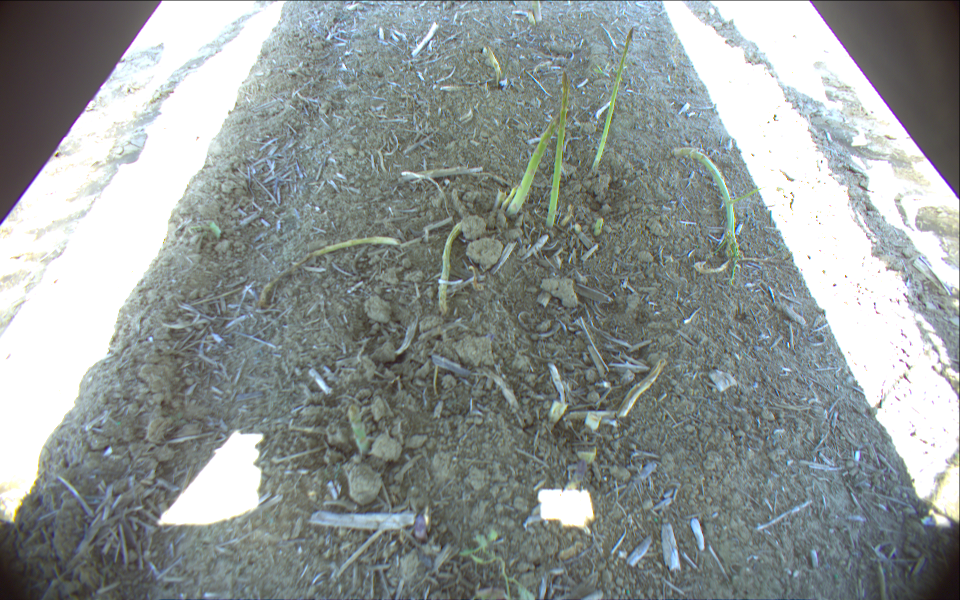aspa: (502, 110, 563, 220), (592, 25, 635, 177), (542, 71, 571, 232)
